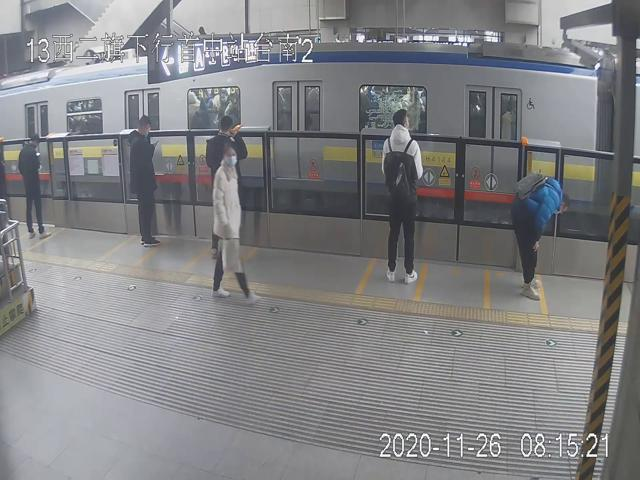person: (210, 142, 262, 302), (379, 109, 426, 283), (128, 113, 162, 248), (18, 132, 53, 239)
